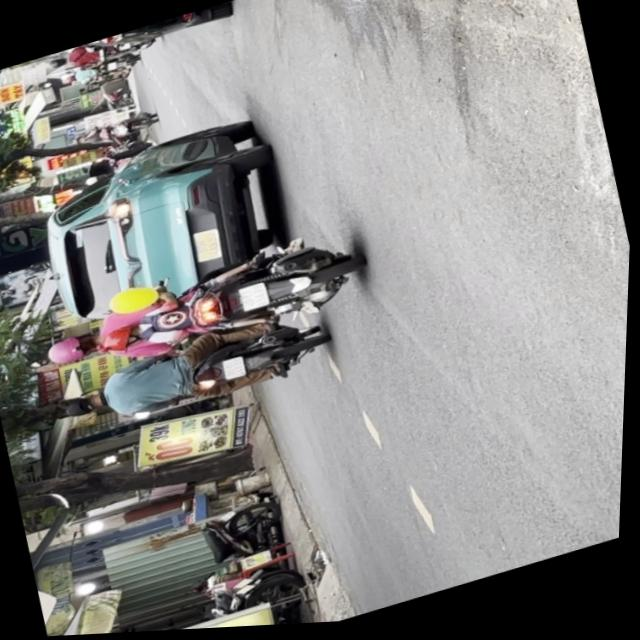helmet: (44, 329, 103, 372)
licenseplate: (33, 223, 372, 392), (57, 304, 337, 446)
motorcyclist: (94, 321, 152, 364), (64, 391, 108, 424)
nohelmet: (239, 284, 271, 316), (222, 358, 248, 385)
